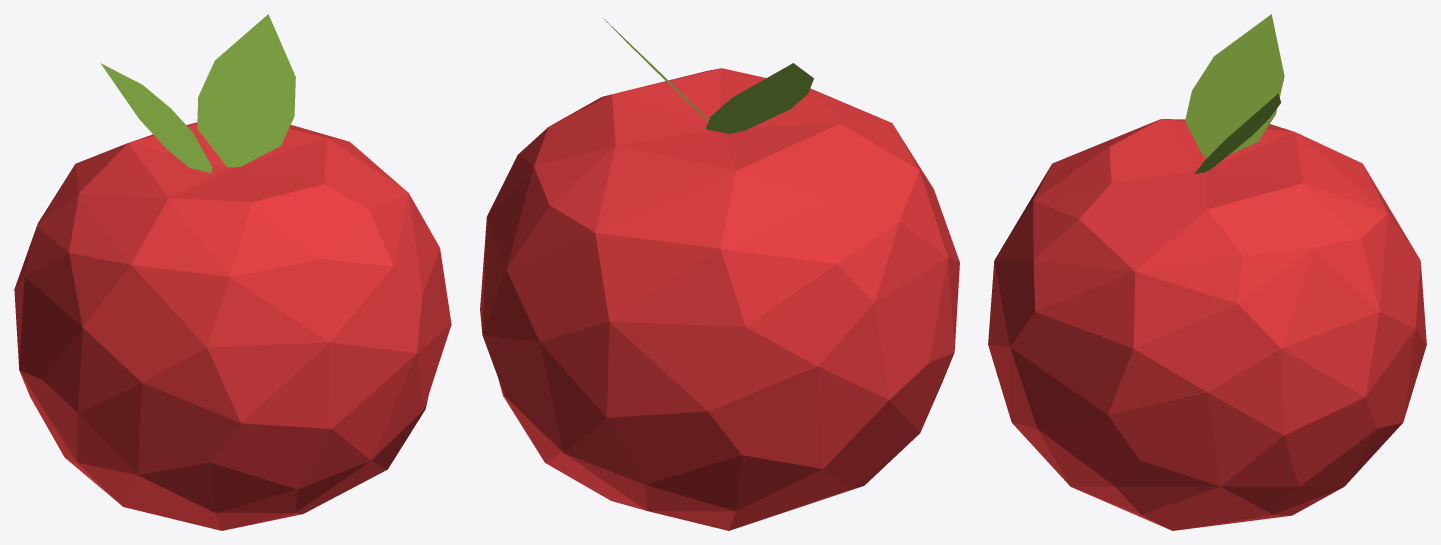
The picture shows the model from 3 angles, left to right: view 1: azimuth 30°, elevation 25°; view 2: azimuth 150°, elevation 25°; view 3: azimuth 270°, elevation 25°; orthographic projection. The views are drawn at different scales.
Parts seen in each view (by area): view 1: Apple; view 2: Apple; view 3: Apple.
Part boxes in pixels (box(x1,y1,x2,y2)): Apple: box(14, 14, 451, 530); Apple: box(480, 18, 959, 530); Apple: box(988, 14, 1426, 530).
Bounding box in the file's own units: 0.0942 × 0.1024 × 0.0945.
Materials: 1 (1 with a texture image).
